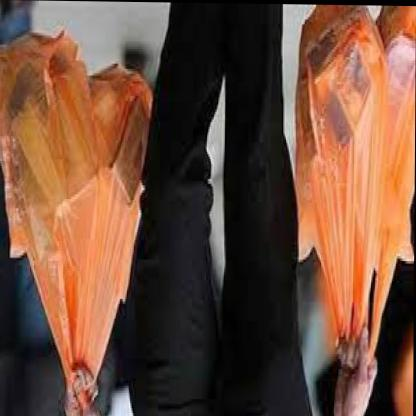Plastic: (0, 33, 142, 411), (286, 3, 416, 366)
